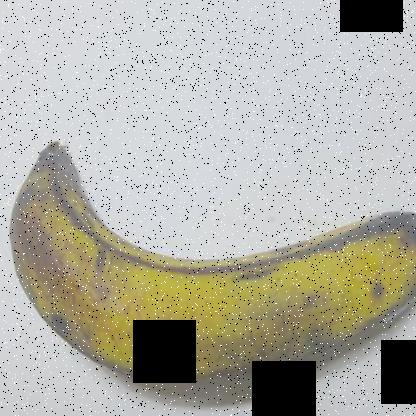rotten: (7, 120, 415, 414)
